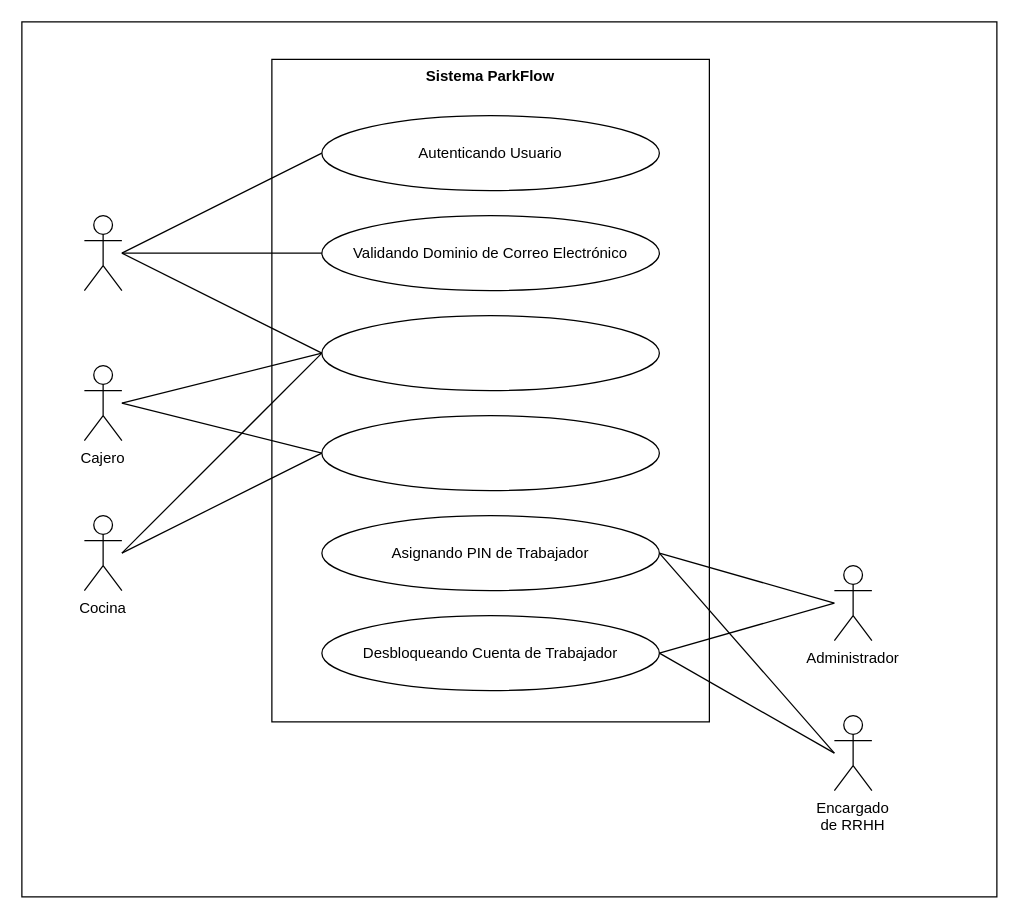
The diagram is 1019 pixels wide and 919 high, and some of its shapes have lost their labels. The shapes that lost their labels are listed below. From the top down, each one's centre as x and y in pixels, then its label:
At point (102, 252): "Personal de oficina".
At point (490, 352): "Validando Permisos según Rol".
At point (490, 452): "Autenticando Trabajador con PIN".
